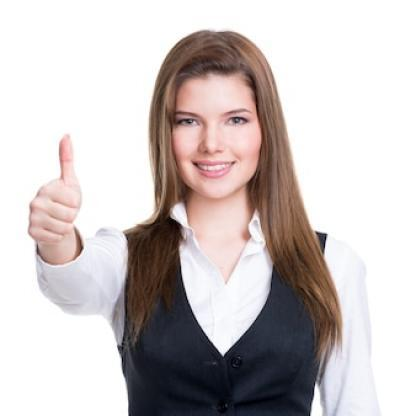thumb_up: (18, 129, 86, 246)
